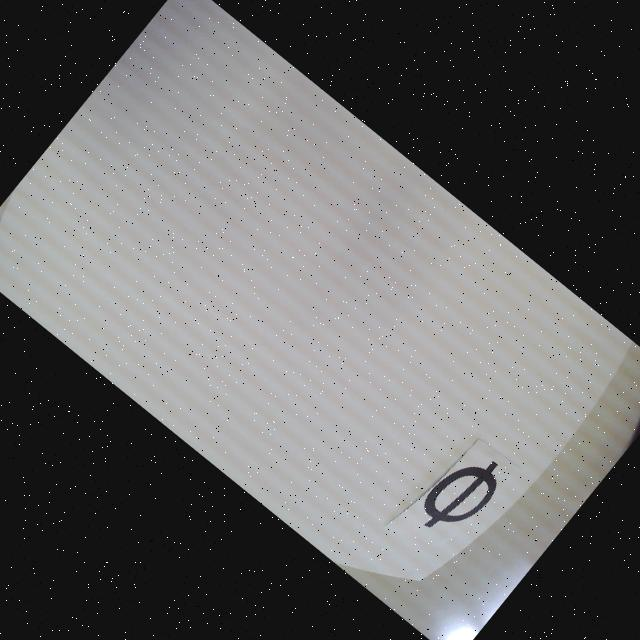PHI: (412, 442, 511, 548)
